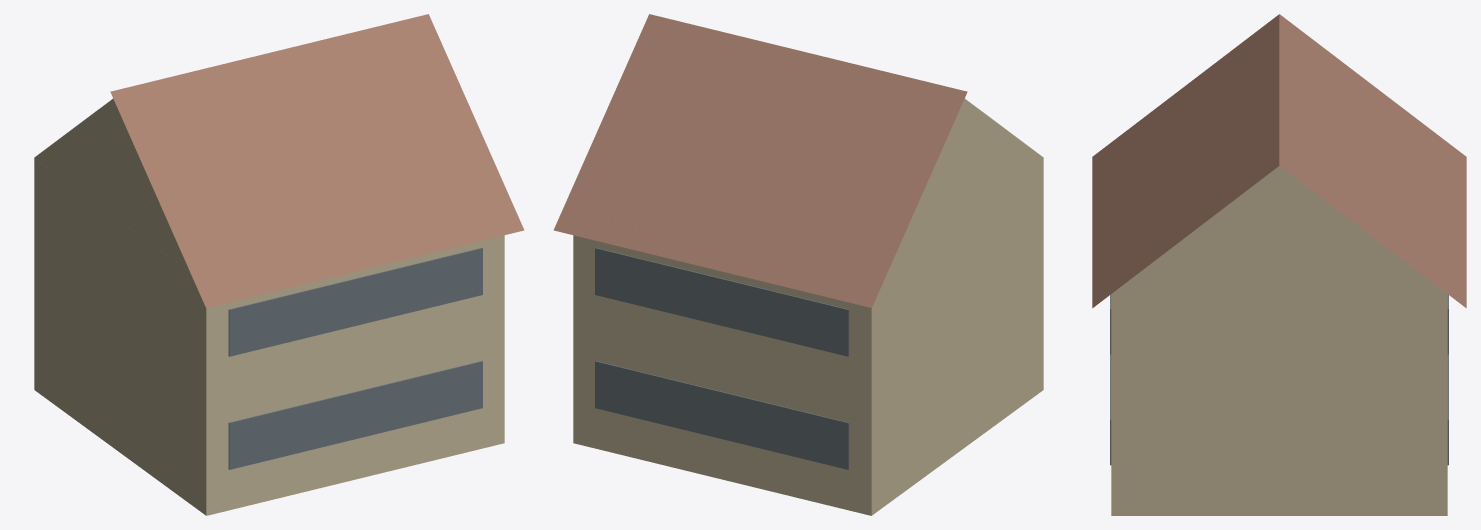
Rendered from bakery.loc-v1.lod2.glb.
3 views of the same model, side by side, from view 1: azimuth 30°, elevation 25°; view 2: azimuth 150°, elevation 25°; view 3: azimuth 270°, elevation 25° (orthographic). The views are drawn at different scales.
Visible parts, largest first — view 1: bakery; view 2: bakery; view 3: bakery.
Part boxes in pixels (bbox=[...]): bakery: bbox=[34, 14, 524, 515]; bakery: bbox=[553, 14, 1043, 515]; bakery: bbox=[1092, 14, 1466, 515].
Bounding box in the file's own units: 8.54 × 9.32 × 8.9.
